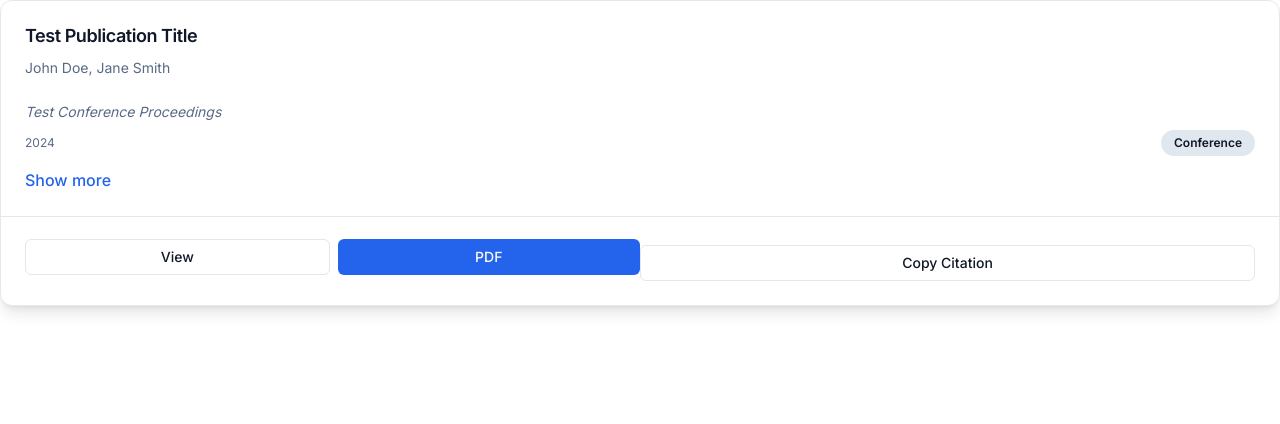
Test: PublicationCard › expands and collapses abstract correctly
The image size is (1280, 424).
Expected: the text "This is a test abstract" is not shown
Note: Click to expand
What coordinates should you click on to do the following:
click the heading "Show more"
I would click on:
 (68, 180)
Its box is 25,170 -> 111,190.
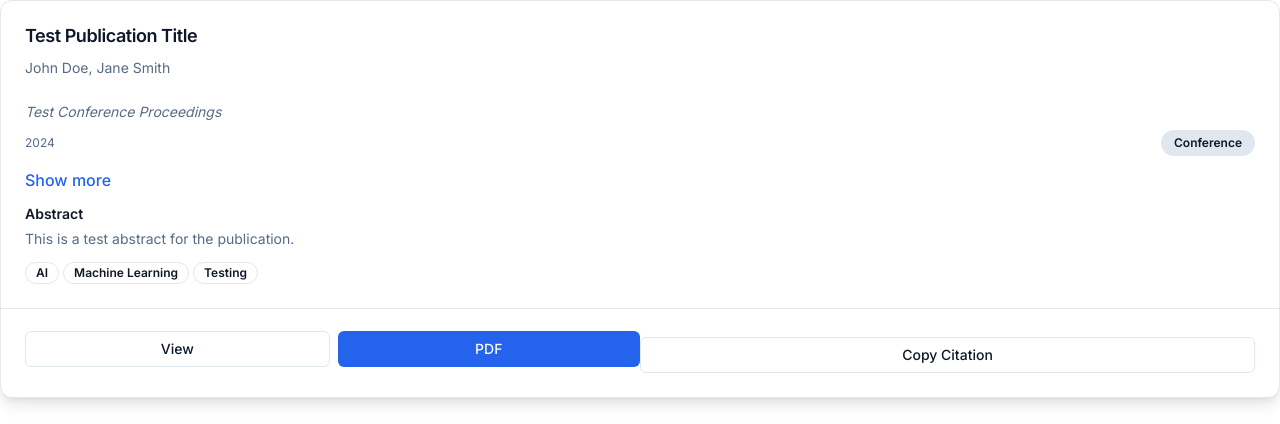
Expected: the text "This is a test abstract for the publication." is shown, 25,230 -> 294,246
Note: Click to collapse (same element, as details/summary doesn't change text)
What coordinates should you click on to do the following:
click the heading "Show more"
I would click on:
 (68, 180)
Its box is 25,170 -> 111,190.
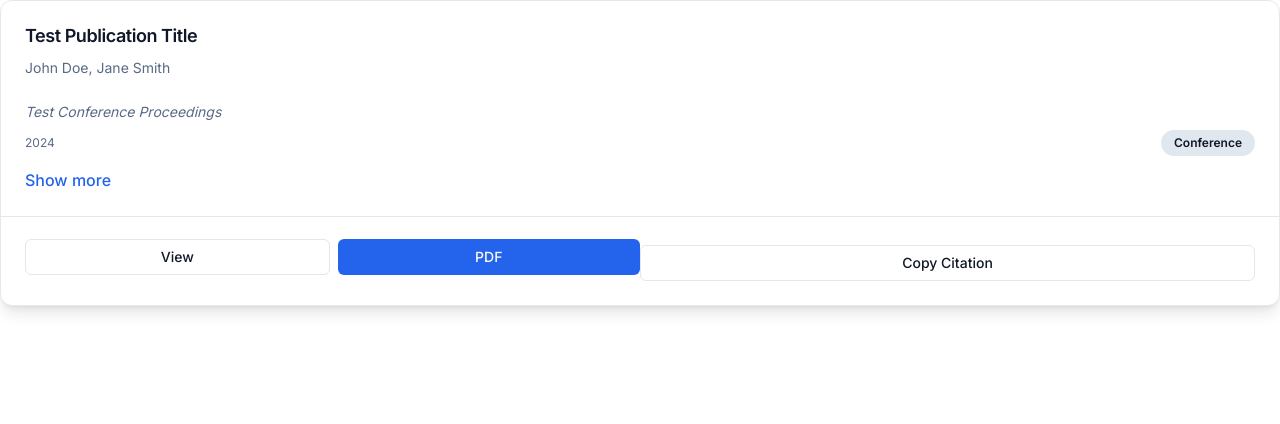
Expected: the text "This is a test abstract" is gone
